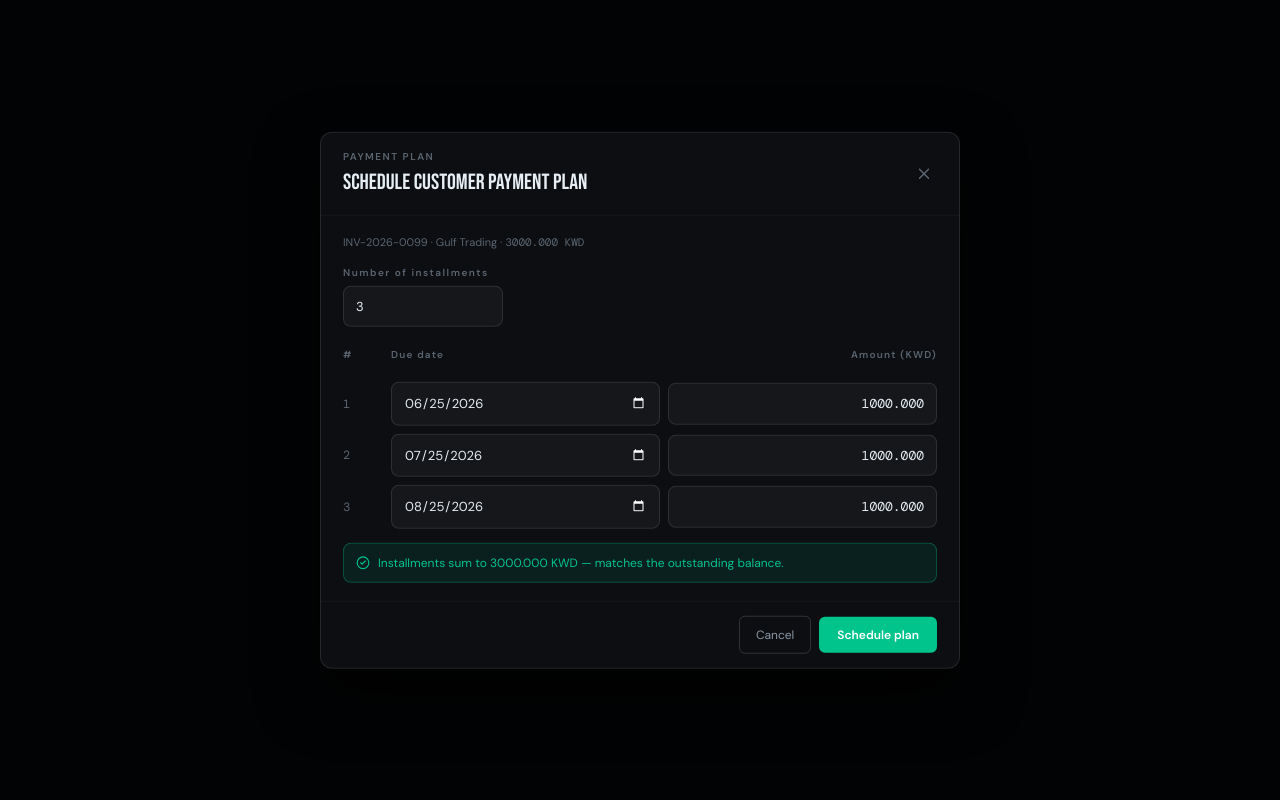
Test: ScheduleARInstallmentModal — AUDIT-ACC-005 › surfaces backend error inline on 409 conflict without closing
The image size is (1280, 800).
Click the button "Schedule plan": coordinates (878, 634) [819,616,937,652]
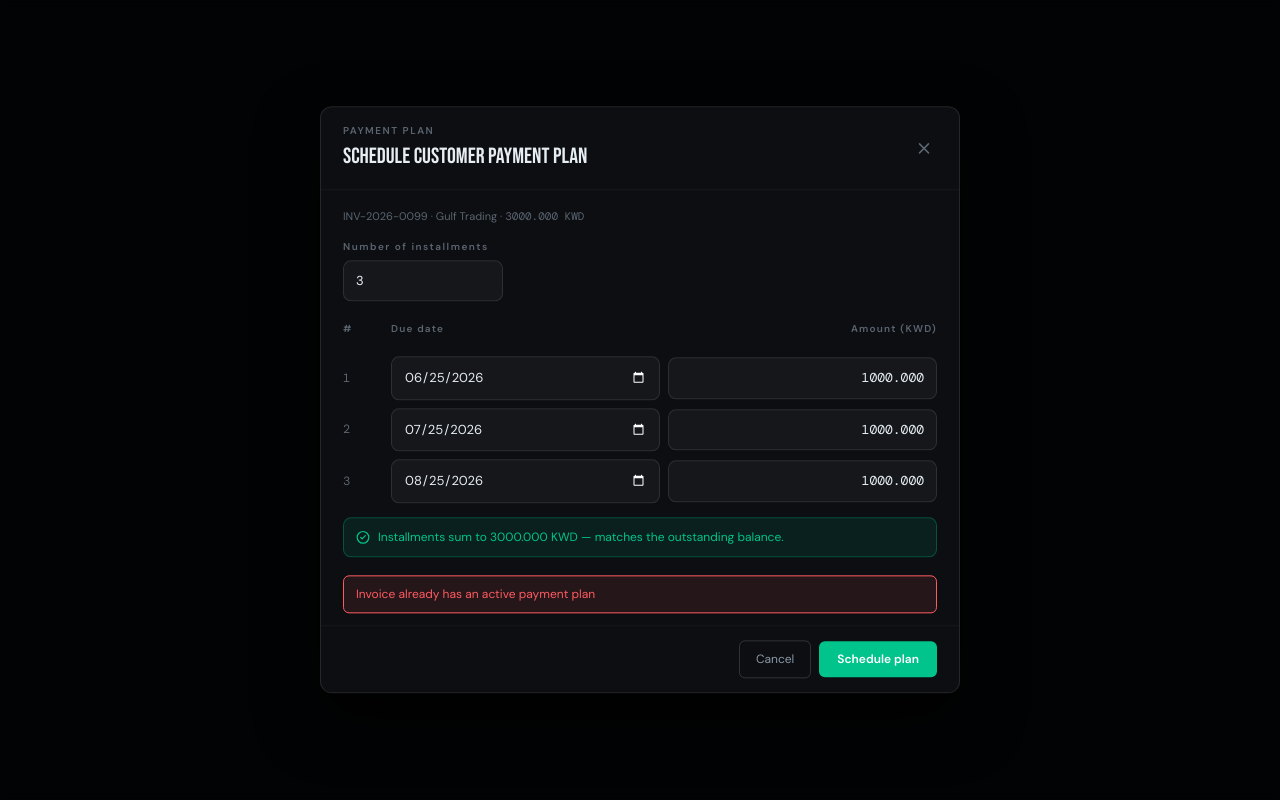
Now the message "Invoice already has an active payment plan" is shown, box [343,575,937,614]
